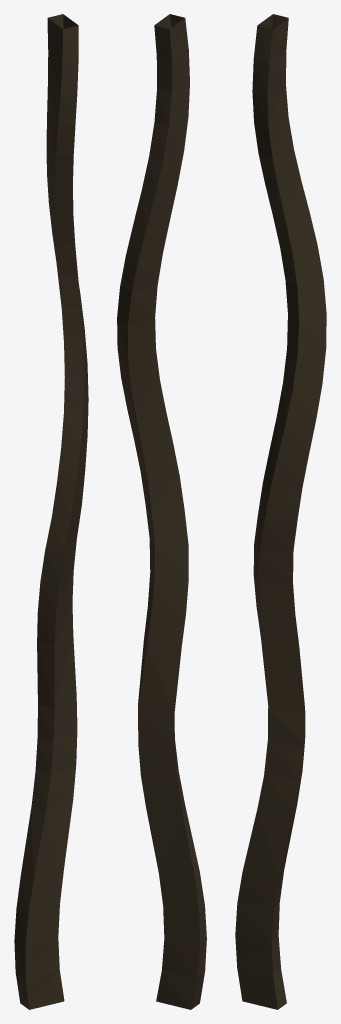
3 renders of one model, left to right at view 1: azimuth 30°, elevation 25°; view 2: azimuth 150°, elevation 25°; view 3: azimuth 330°, elevation 25°, orthographic.
Visible parts, largest first — view 1: pCylinder449; view 2: pCylinder449; view 3: pCylinder449.
Part boxes in pixels (left/top/right/bottom): pCylinder449: left=14, top=14, right=88, bottom=1009; pCylinder449: left=117, top=14, right=206, bottom=1009; pCylinder449: left=235, top=14, right=326, bottom=1009.
Bounding box in the file's own units: 2.46 × 30 × 1.8.
